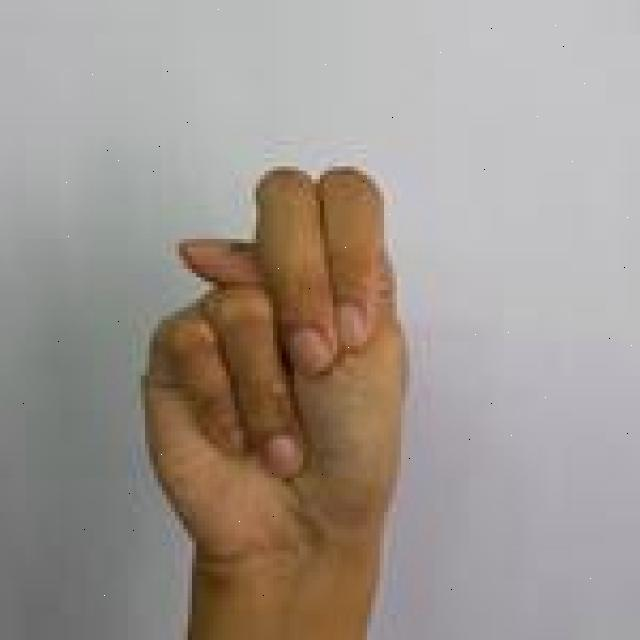N: (118, 155, 418, 640)
